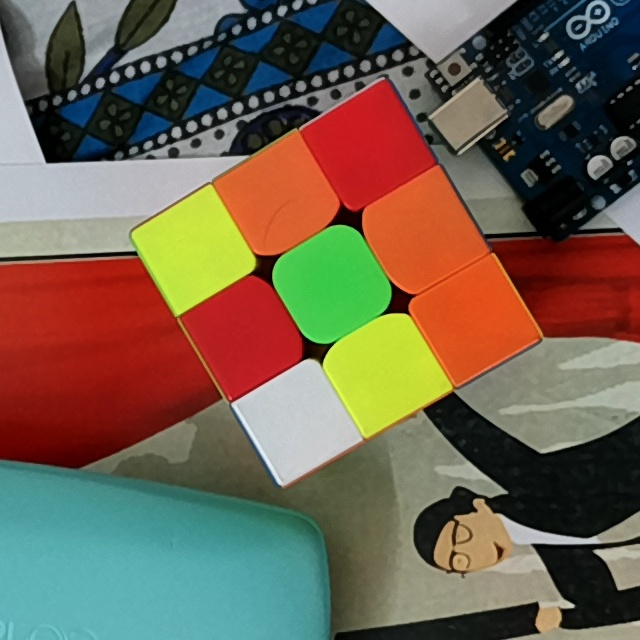tile: (335, 109, 407, 182), (385, 199, 457, 266), (349, 336, 418, 405), (208, 300, 280, 366), (297, 249, 366, 316), (441, 285, 508, 352), (243, 167, 310, 233), (264, 386, 332, 451), (163, 214, 226, 283)
